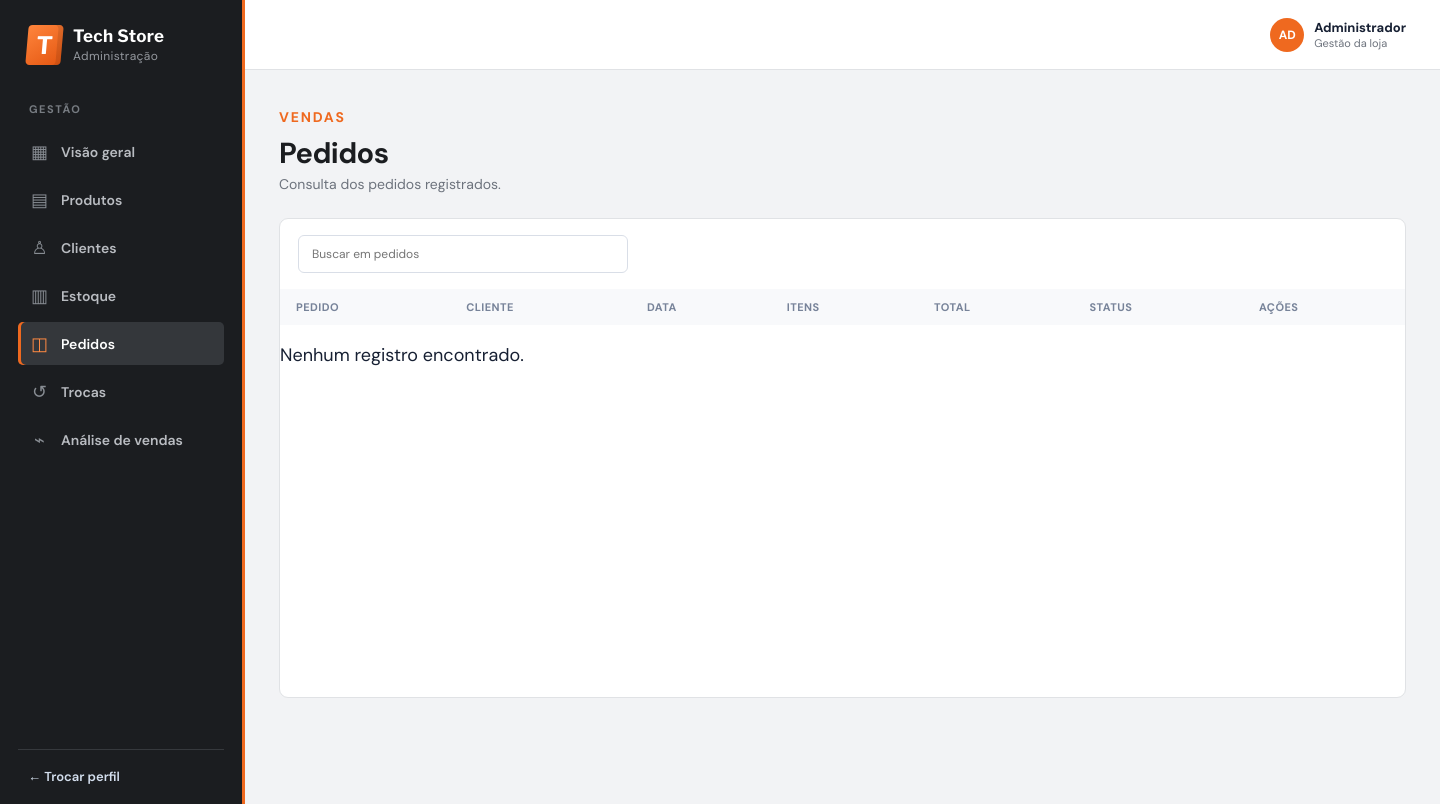
Test: Tech Store conectada à API › retorna à loja pelo logo da barra lateral administrativa
Click the link with aria-label "Tech Store — início". click: (95, 45)
box: [25,25,164,65]
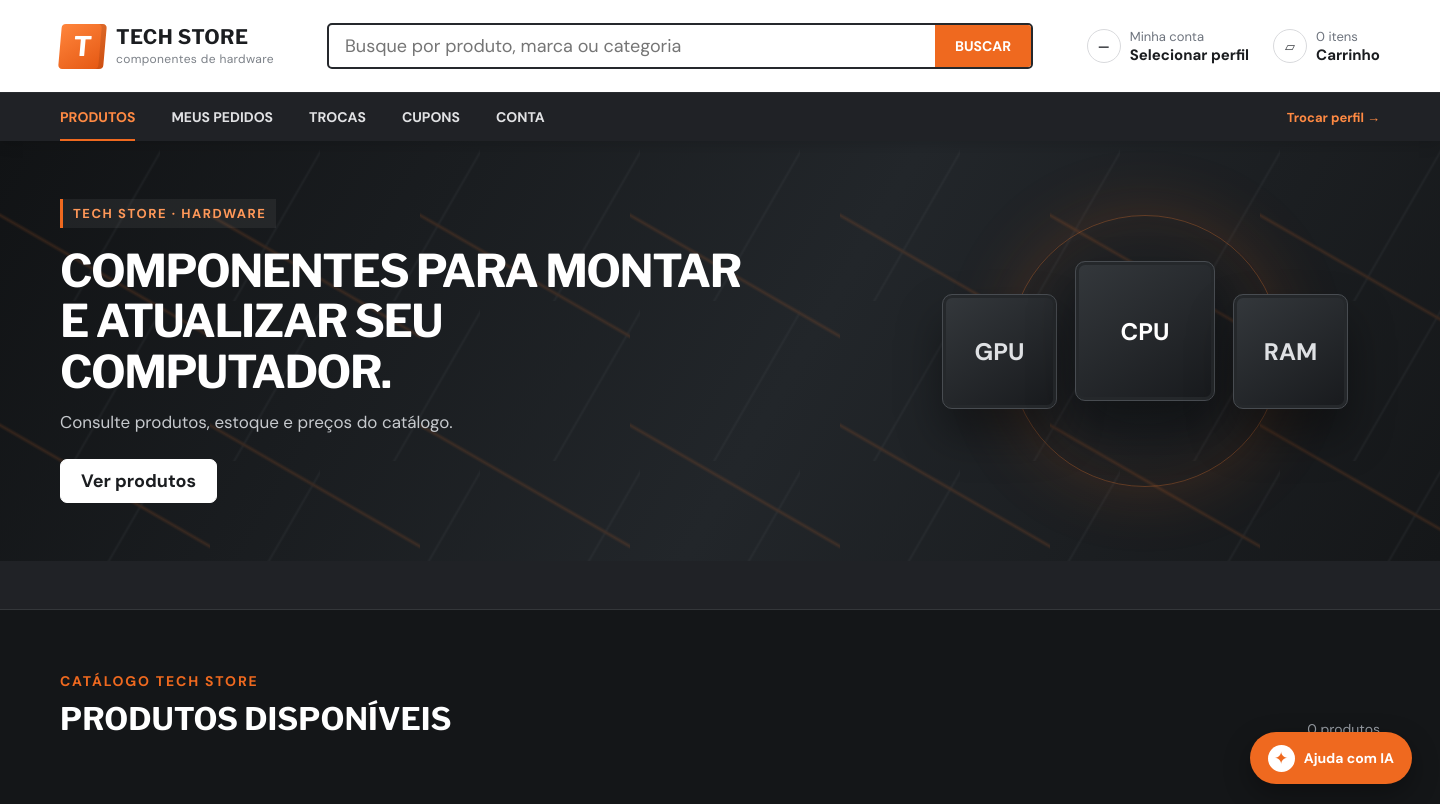
Check: the heading "Componentes para montar" is shown, box [60,246,780,397]
